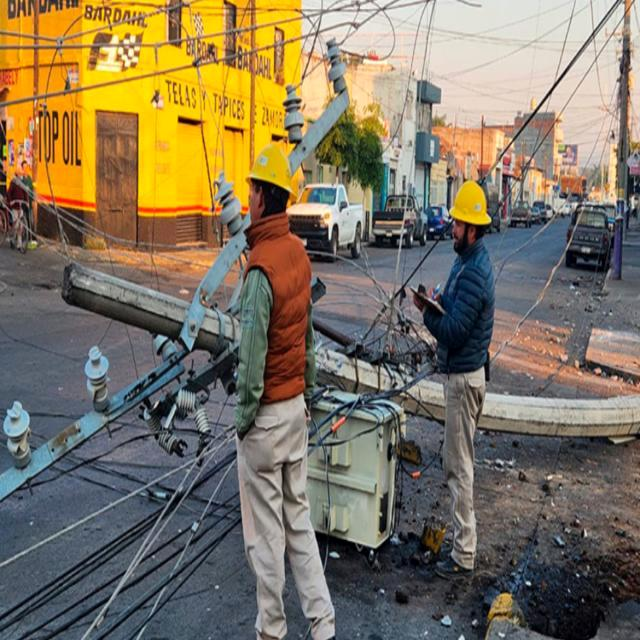Broken Pole: (1, 30, 638, 547)
